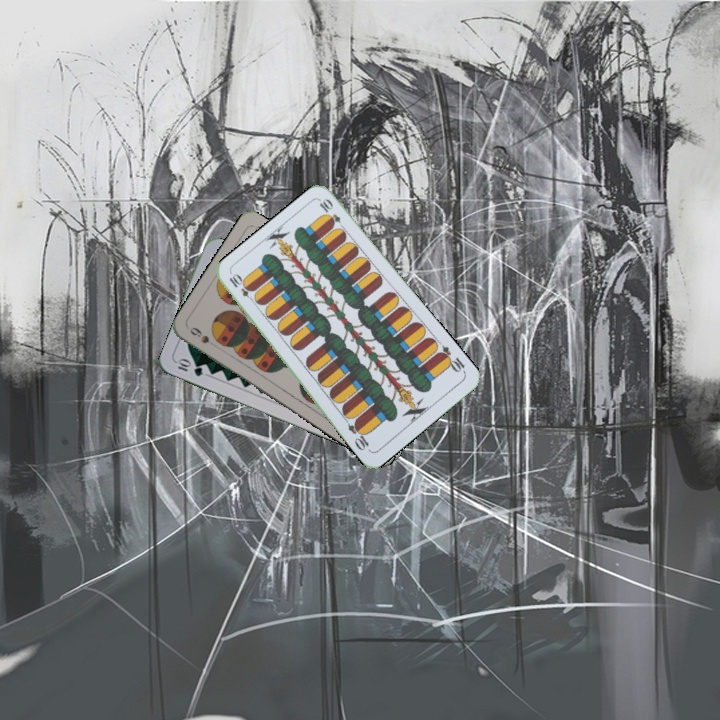E10: (434, 342, 468, 376), (225, 270, 258, 305)
G10: (173, 355, 205, 379)
S9: (186, 323, 219, 349)
